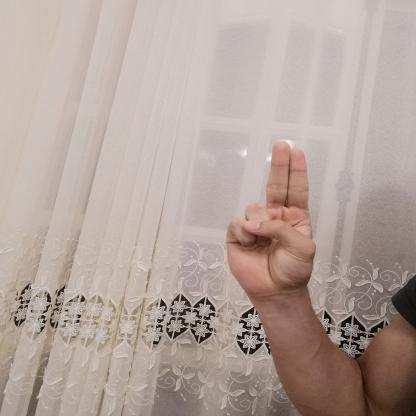TA: (215, 129, 329, 308)
